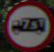Heavy Vehicles: (6, 8, 47, 42)
